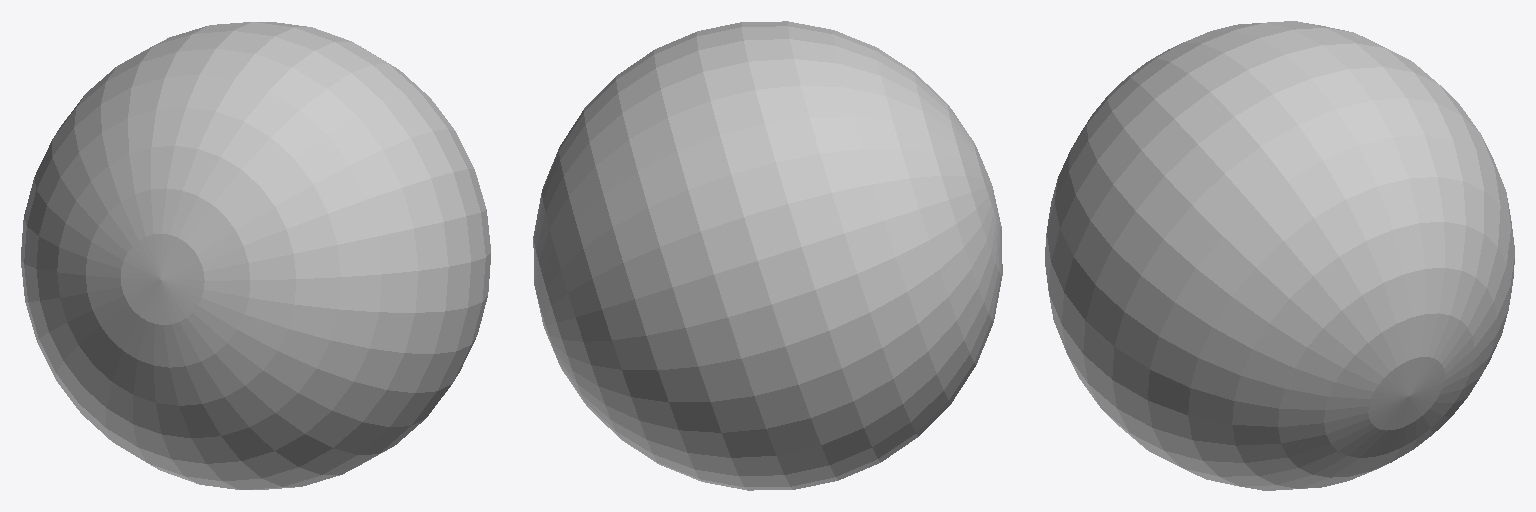
The model's file is basketball.obj.
3 views of the same model, side by side, from view 1: azimuth 30°, elevation 25°; view 2: azimuth 150°, elevation 25°; view 3: azimuth 270°, elevation 25° (orthographic).
Parts seen in each view (by area): view 1: Basketball_ball_basketball_ball; view 2: Basketball_ball_basketball_ball; view 3: Basketball_ball_basketball_ball.
Part boxes in pixels (x1,y1,x2,y2): Basketball_ball_basketball_ball: (21, 22, 490, 489); Basketball_ball_basketball_ball: (533, 21, 1002, 490); Basketball_ball_basketball_ball: (1045, 21, 1514, 490).
Bounding box in the file's own units: 2.79 × 2.78 × 2.8.